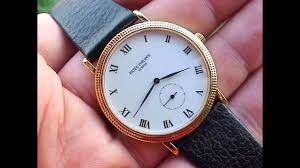clock: (101, 26, 212, 136)
